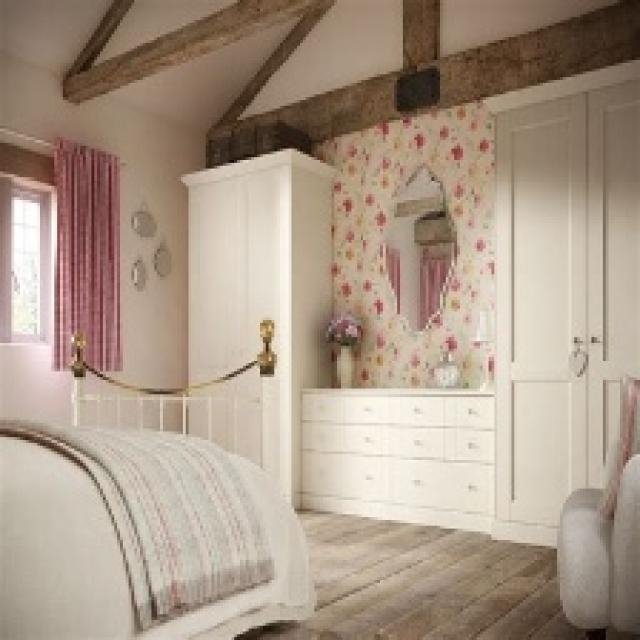Bed: (0, 317, 314, 637)
